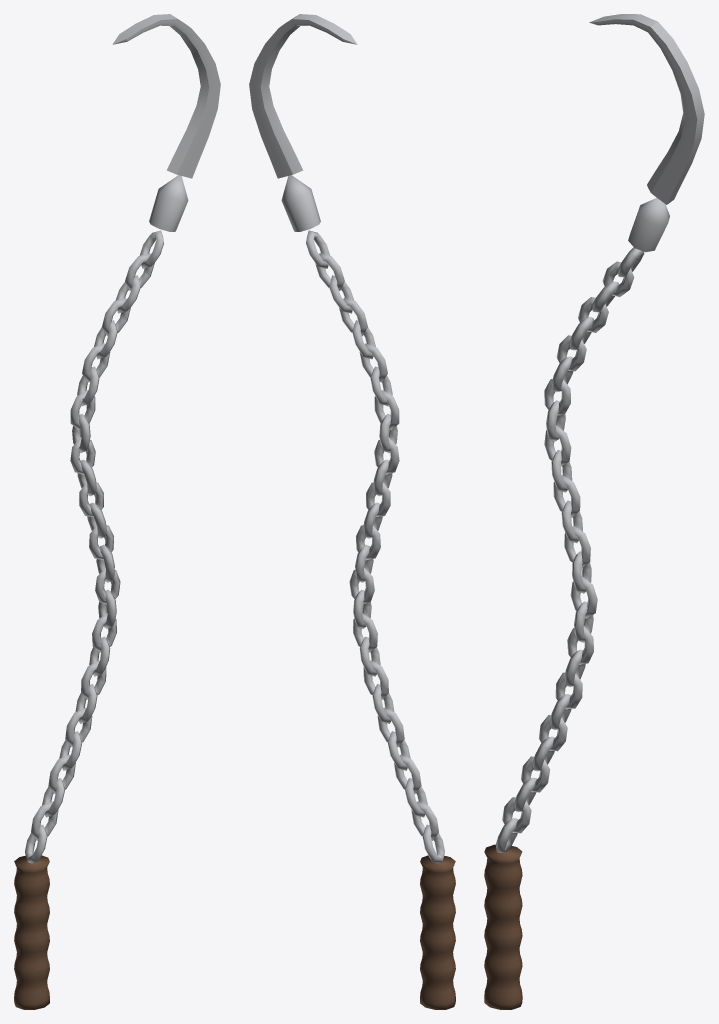
File: flying-talon.glb
3 renders of one model, left to right at view 1: azimuth 30°, elevation 25°; view 2: azimuth 150°, elevation 25°; view 3: azimuth 330°, elevation 25°, orthographic. The views are drawn at different scales.
Visible parts, largest first — view 1: flying-talon; view 2: flying-talon; view 3: flying-talon.
Part boxes in pixels (box(x1,y1,x2,y2)): flying-talon: box(14, 14, 220, 1009); flying-talon: box(249, 14, 455, 1009); flying-talon: box(484, 14, 704, 1009).
Bounding box in the file's own units: 0.4025 × 1.82 × 0.056.
